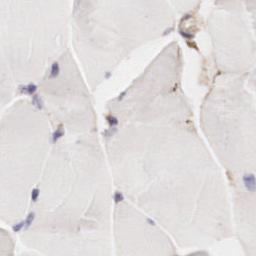nucleus: (32, 94, 46, 111), (243, 174, 256, 192), (26, 213, 36, 230), (50, 62, 59, 77), (112, 191, 124, 202), (12, 220, 23, 231), (26, 84, 36, 94), (180, 32, 195, 38), (53, 132, 63, 140), (32, 188, 39, 199), (162, 27, 172, 34), (17, 85, 25, 93), (147, 218, 154, 225), (104, 72, 111, 79), (184, 14, 191, 20), (120, 91, 125, 99), (112, 117, 117, 124)
positive_cell: (180, 30, 199, 49), (52, 123, 65, 143), (105, 112, 118, 125)
